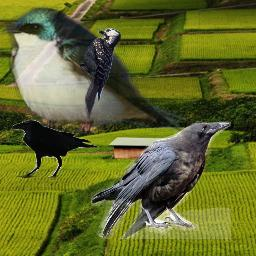Crow: (91, 121, 231, 239), (11, 120, 100, 179)
Swallow: (1, 5, 189, 133)
Woodpecker: (77, 24, 121, 121)
